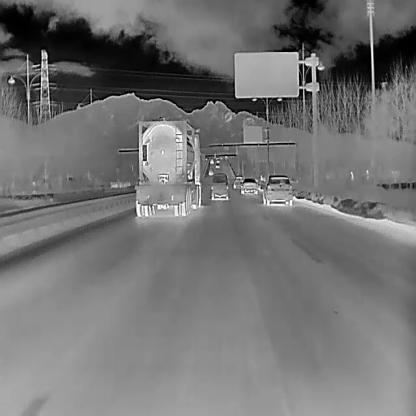car: (134, 119, 202, 216), (262, 174, 293, 205), (211, 172, 229, 201), (240, 177, 258, 194), (232, 175, 243, 189), (208, 168, 214, 175), (209, 158, 213, 164), (215, 163, 219, 168), (215, 158, 220, 162)
